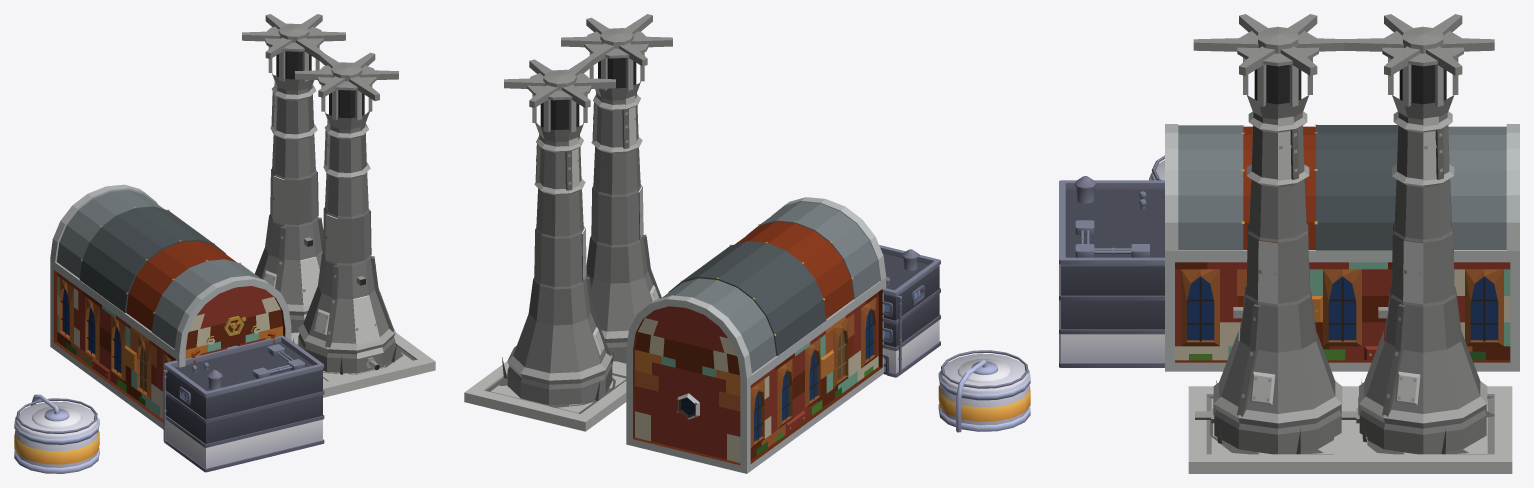
File: plant_thermal.glb
3 renders of one model, left to right at view 1: azimuth 30°, elevation 25°; view 2: azimuth 150°, elevation 25°; view 3: azimuth 270°, elevation 25°, orthographic. The views are drawn at different scales.
Parts seen in each view (by area): view 1: hall, stack (×2), building-a, cowl-mesh (×2), detail-tank-large; view 2: hall, stack (×2), cowl-mesh (×2), detail-tank-large, building-a; view 3: stack (×2), hall, building-a, cowl-mesh (×2).
Part boxes in pixels (x1,y1,x2,y2): hall: (50, 184, 291, 429); stack (×2): (255, 51, 435, 397); building-a: (163, 335, 324, 472); cowl-mesh (×2): (242, 14, 398, 129); detail-tank-large: (14, 394, 99, 473); hall: (626, 197, 886, 473); stack (×2): (464, 58, 661, 431); cowl-mesh (×2): (504, 14, 672, 142); detail-tank-large: (938, 350, 1030, 432); building-a: (879, 245, 940, 377); stack (×2): (1188, 65, 1512, 473); hall: (1165, 124, 1519, 371); building-a: (1059, 176, 1164, 367); cowl-mesh (×2): (1193, 14, 1494, 119).
Bounding box in the file's own units: 80.38 × 55 × 57.15.
Materials: 2 (1 with a texture image).
